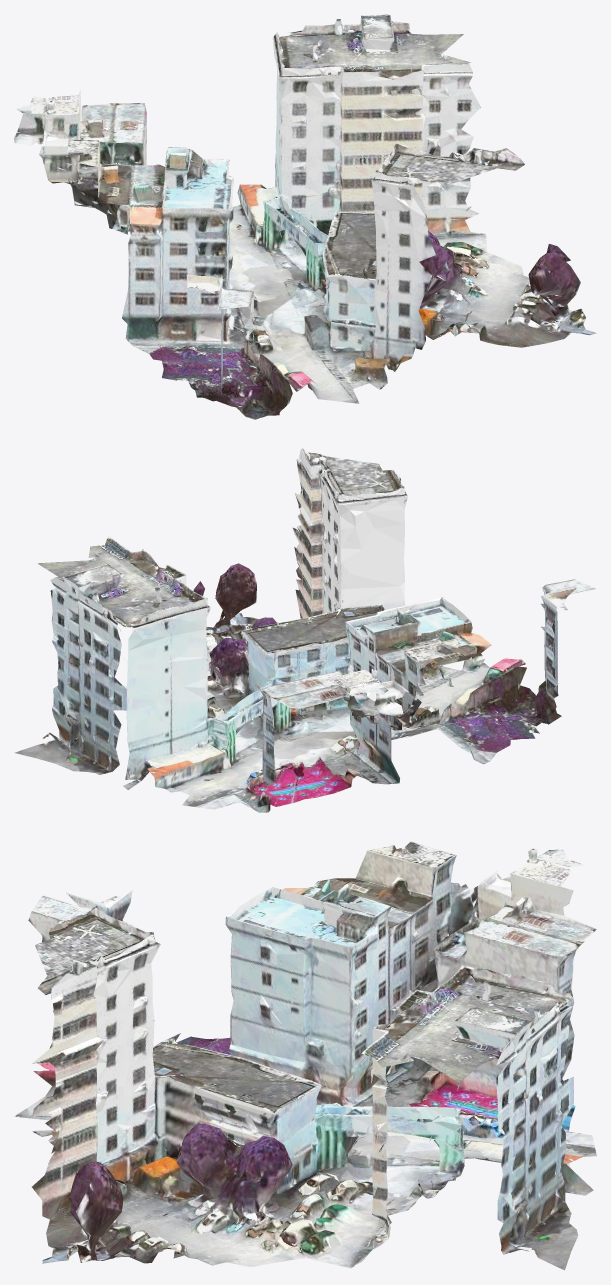
Rendered from Tile_+011_+018_L19_000033.glb.
The picture shows the model from 3 angles, top to bottom: view 1: azimuth 30°, elevation 25°; view 2: azimuth 150°, elevation 25°; view 3: azimuth 270°, elevation 25°; orthographic projection. The views are drawn at different scales.
Parts seen in each view (by area): view 1: rtc; view 2: rtc; view 3: rtc.
Part boxes in pixels (x1=…): rtc: x1=14, y1=14, x2=596, y2=419; rtc: x1=14, y1=448, x2=596, y2=812; rtc: x1=14, y1=841, x2=596, y2=1270.
Size of the model in its own units: 58.79 by 28.69 by 58.
1 material, 1 textured.
